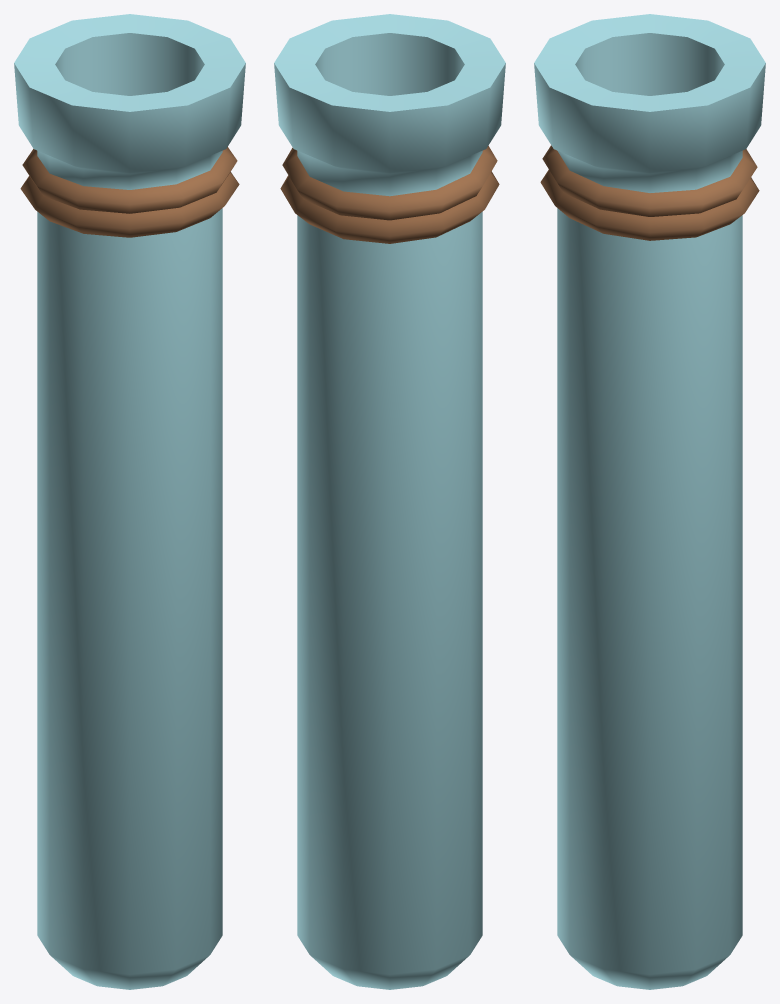
File: PotionBottleFilled7.fbx
3 views of the same model, side by side, from view 1: azimuth 30°, elevation 25°; view 2: azimuth 150°, elevation 25°; view 3: azimuth 270°, elevation 25° (orthographic).
Visible parts, largest first — view 1: PotionBottleFilled7; view 2: PotionBottleFilled7; view 3: PotionBottleFilled7.
Part boxes in pixels (x1,y1,x2,y2): PotionBottleFilled7: (14, 14, 245, 989); PotionBottleFilled7: (274, 14, 505, 989); PotionBottleFilled7: (534, 14, 765, 989).
Bounding box in the file's own units: 4.21 × 18.03 × 4.21.
